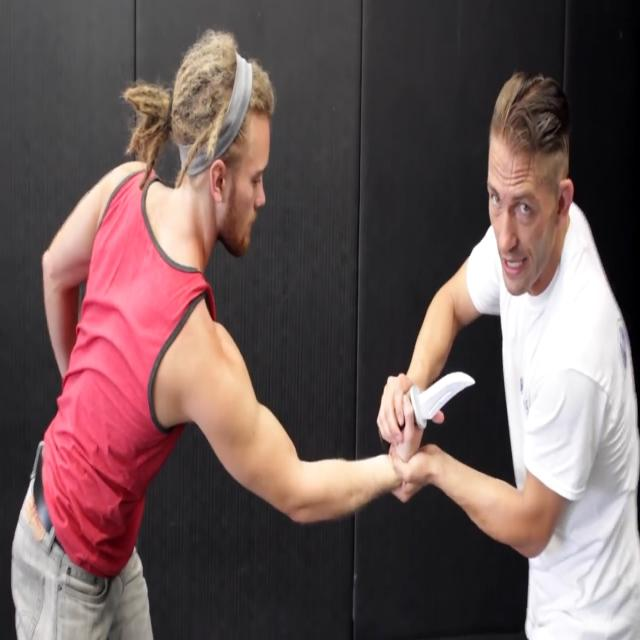knife: (412, 366, 481, 432)
